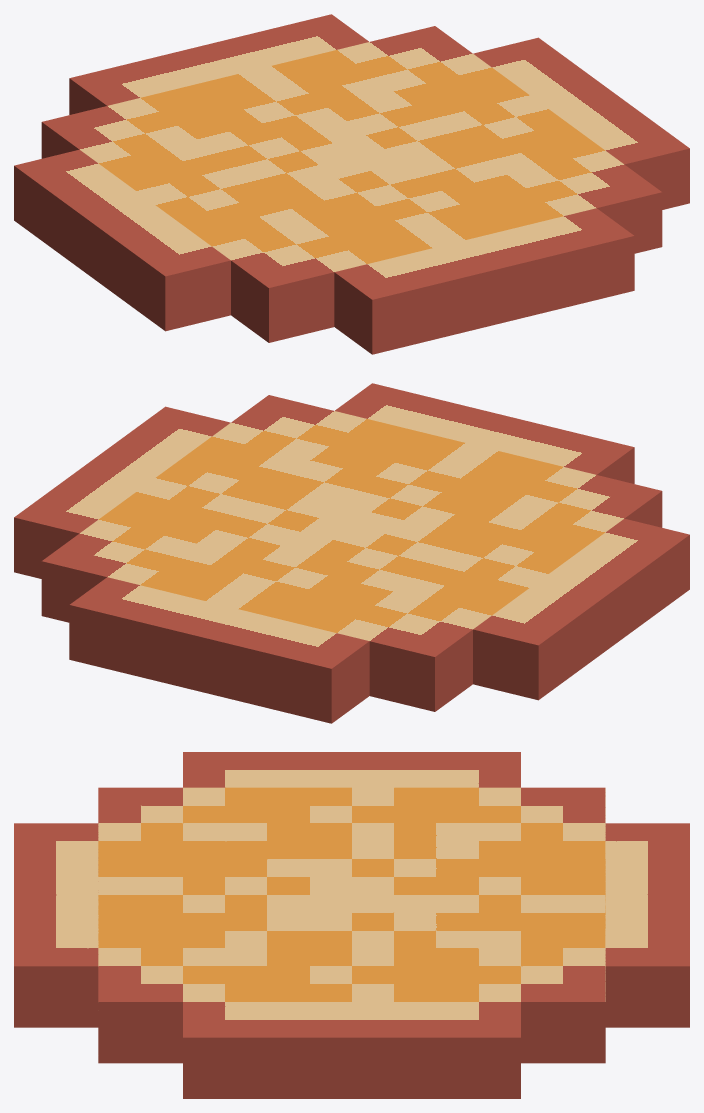
Rendered from OrangeSlice.fbx.
The picture shows the model from 3 angles, top to bottom: view 1: azimuth 30°, elevation 25°; view 2: azimuth 150°, elevation 25°; view 3: azimuth 270°, elevation 25°; orthographic projection. The views are drawn at different scales.
Parts seen in each view (by area): view 1: cube, cube_2, cube_4, cube_3, cube_1; view 2: cube, cube_1, cube_4, cube_3, cube_2; view 3: cube, cube_3, cube_1, cube_2, cube_4.
Boxes of the visible parts, x1=… form: cube: x1=41, y1=26, x2=662, y2=342; cube_2: x1=334, y1=208, x2=634, y2=354; cube_4: x1=14, y1=149, x2=230, y2=331; cube_3: x1=473, y1=37, x2=689, y2=209; cube_1: x1=69, y1=14, x2=368, y2=114; cube: x1=41, y1=395, x2=662, y2=711; cube_1: x1=69, y1=577, x2=369, y2=723; cube_4: x1=473, y1=518, x2=689, y2=700; cube_3: x1=14, y1=406, x2=230, y2=578; cube_2: x1=335, y1=383, x2=634, y2=483; cube: x1=98, y1=787, x2=605, y2=1063; cube_3: x1=183, y1=1002, x2=520, y2=1098; cube_1: x1=605, y1=823, x2=689, y2=1027; cube_2: x1=14, y1=823, x2=98, y2=1027; cube_4: x1=183, y1=752, x2=520, y2=787.
Bounding box in the file's own units: 50 × 5 × 50.
Materials: 1 (1 with a texture image).
